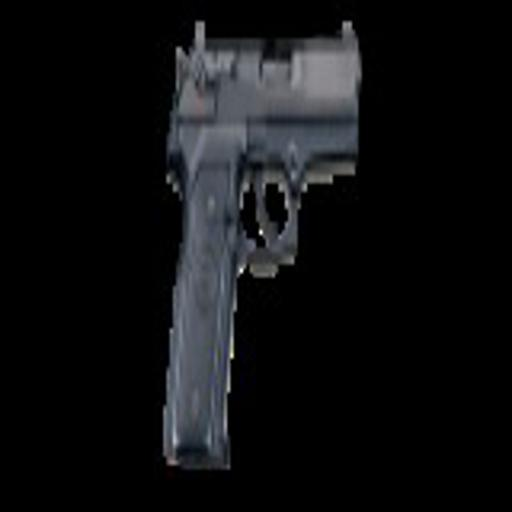Handgun: (136, 11, 367, 481)
